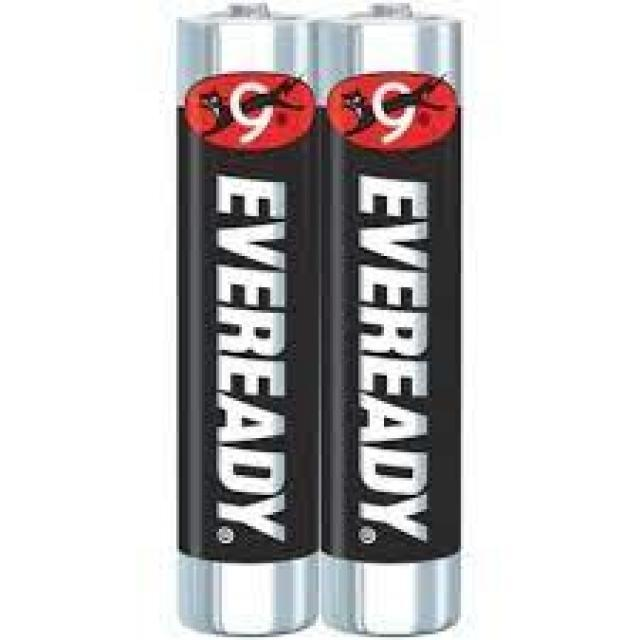battery: (176, 3, 320, 636), (319, 3, 462, 637)
